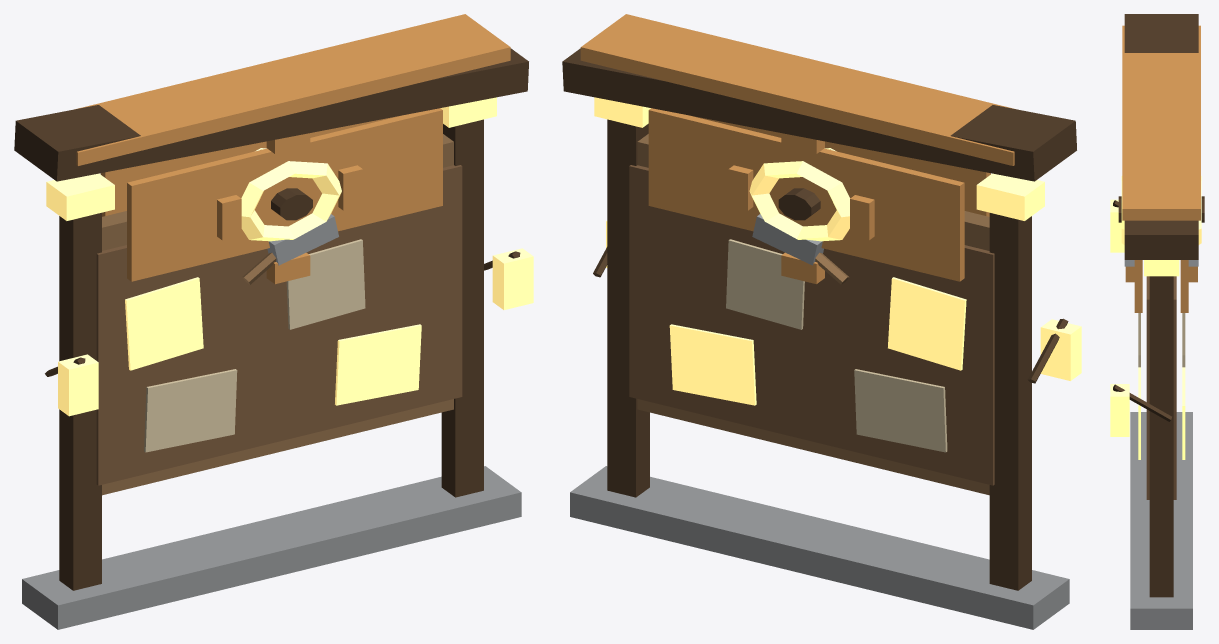
The model's file is request_board_industrial.lod1.glb.
The picture shows the model from 3 angles, left to right: view 1: azimuth 30°, elevation 25°; view 2: azimuth 150°, elevation 25°; view 3: azimuth 270°, elevation 25°; orthographic projection. The views are drawn at different scales.
Size of the model in its own units: 6.6 by 6.43 by 1.32.
